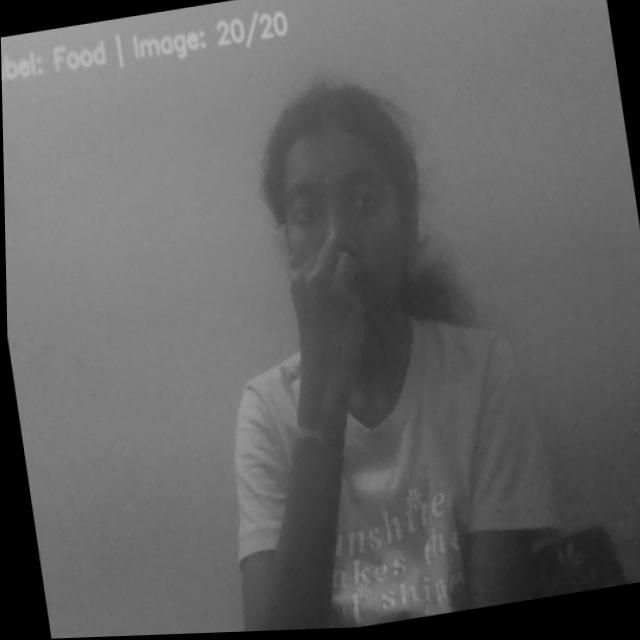Food: (272, 237, 384, 418)
